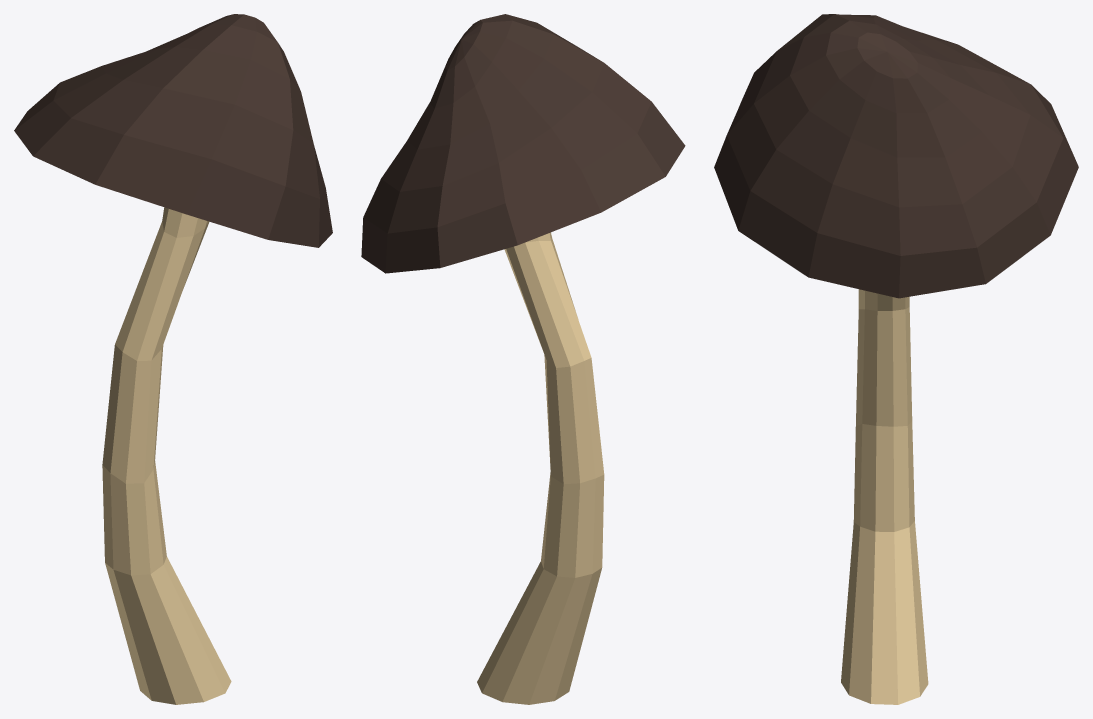
The model's file is mushroom3_Texturedgamelabpal.fbx.
3 views of the same model, side by side, from view 1: azimuth 30°, elevation 25°; view 2: azimuth 150°, elevation 25°; view 3: azimuth 270°, elevation 25° (orthographic). The views are drawn at different scales.
Parts seen in each view (by area): view 1: Cylinder.006; view 2: Cylinder.006; view 3: Cylinder.006.
Boxes of the visible parts, x1=… form: Cylinder.006: x1=14, y1=14, x2=332, y2=704; Cylinder.006: x1=361, y1=14, x2=685, y2=704; Cylinder.006: x1=714, y1=14, x2=1078, y2=704.
Bounding box in the file's own units: 193 × 436 × 211.
